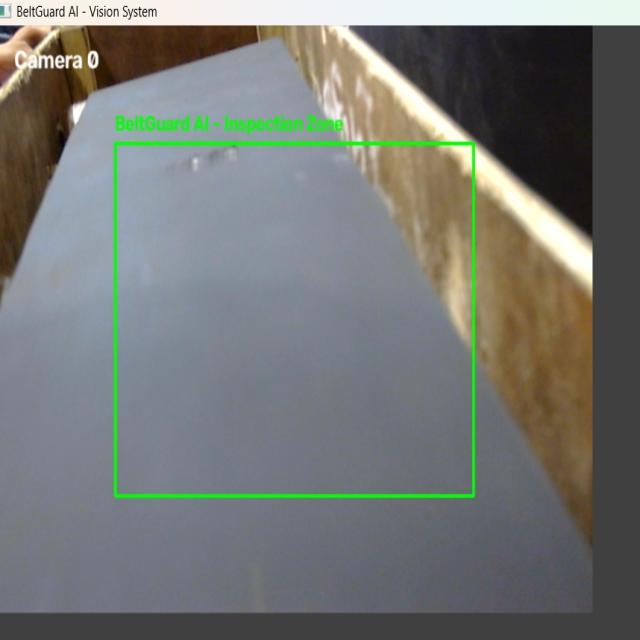crack: (137, 141, 313, 190)
